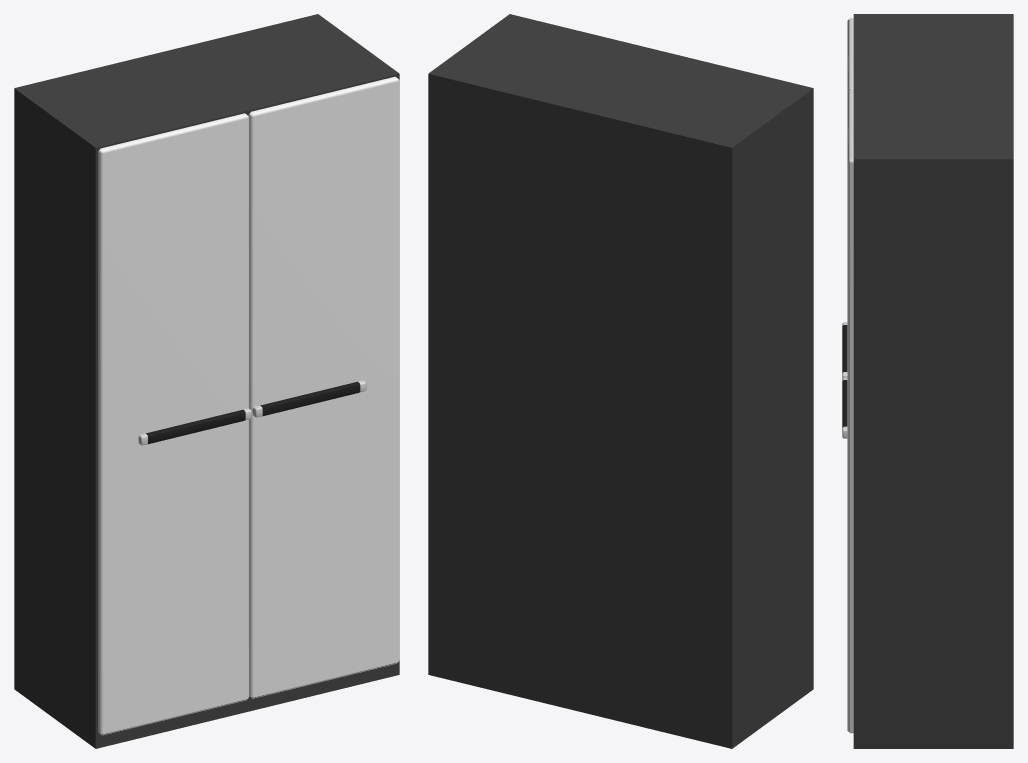
Rendered from cupboard_015.fbx.
3 renders of one model, left to right at view 1: azimuth 30°, elevation 25°; view 2: azimuth 150°, elevation 25°; view 3: azimuth 270°, elevation 25°, orthographic.
Parts seen in each view (by area): view 1: cupboard_015; view 2: cupboard_015; view 3: cupboard_015.
Boxes of the visible parts, x1,y1,x2,y2 form: cupboard_015: (14, 14, 399, 748); cupboard_015: (428, 14, 813, 748); cupboard_015: (842, 14, 1013, 748).
Bounding box in the file's own units: 143 × 71.35 × 271.
